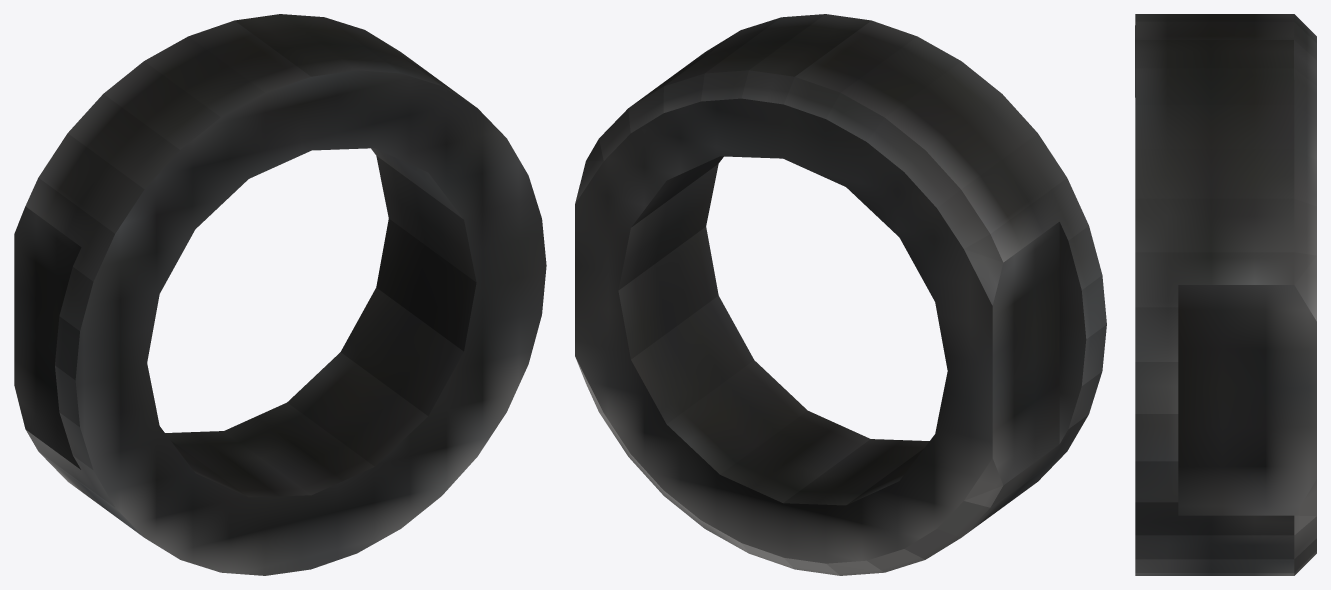
The picture shows the model from 3 angles, left to right: view 1: azimuth 30°, elevation 25°; view 2: azimuth 150°, elevation 25°; view 3: azimuth 270°, elevation 25°; orthographic projection. The views are drawn at different scales.
Parts seen in each view (by area): view 1: TW_5f2aa43ba9b91d26f20ae6d2_PZ_Import; view 2: TW_5f2aa43ba9b91d26f20ae6d2_PZ_Import; view 3: TW_5f2aa43ba9b91d26f20ae6d2_PZ_Import.
Boxes of the visible parts, box(x1,y1,x2,y2) form: TW_5f2aa43ba9b91d26f20ae6d2_PZ_Import: box(14, 14, 546, 575); TW_5f2aa43ba9b91d26f20ae6d2_PZ_Import: box(575, 14, 1106, 575); TW_5f2aa43ba9b91d26f20ae6d2_PZ_Import: box(1135, 14, 1316, 575).
Bounding box in the file's own units: 0.0125 × 0.00404 × 0.0125.
1 material, 1 textured.
